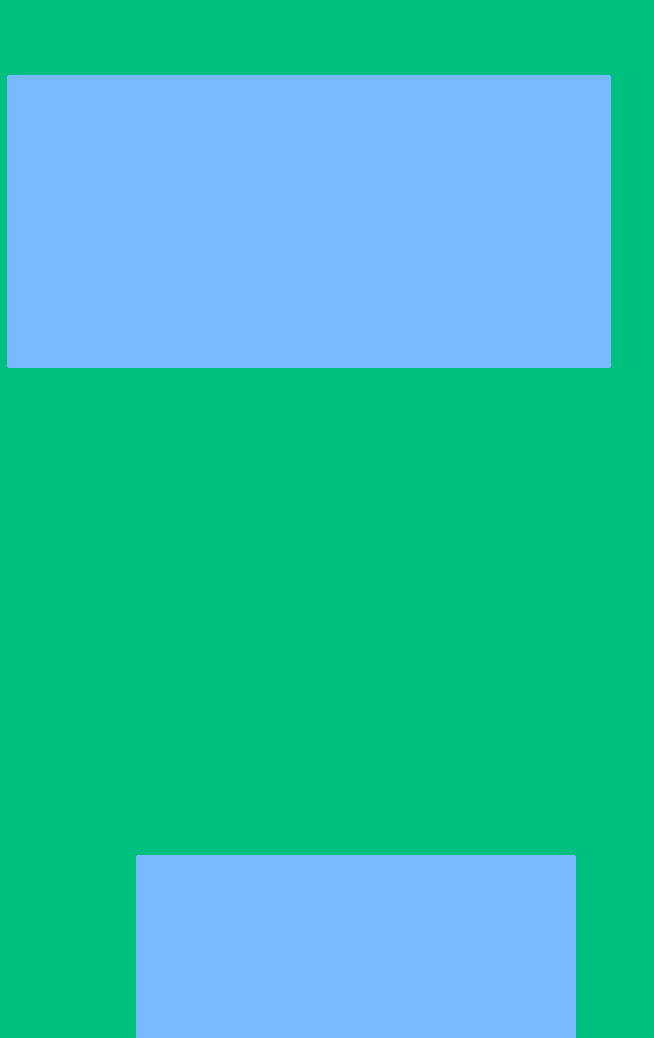Text_area: (8, 76, 609, 366), (137, 856, 574, 1037)
